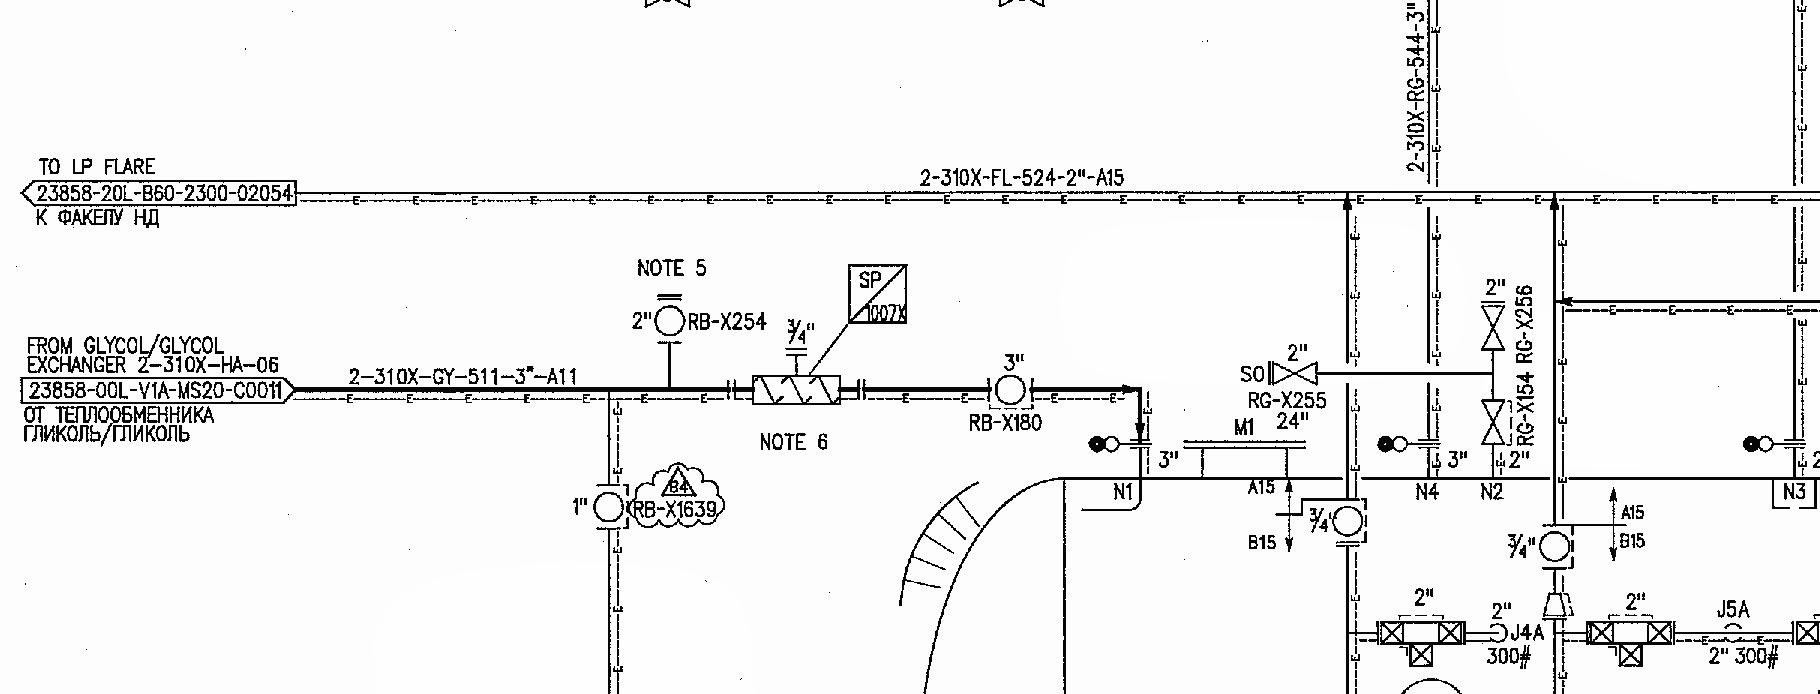2 WAY VALVE: (1372, 612, 1474, 671), (1580, 610, 1678, 668)
CONCENTRIC REDUCER: (1534, 588, 1574, 622)
CONNECTOR: (1479, 619, 1515, 649)
END FLANGED: (779, 339, 815, 369)
FIELD INSTRUMENT: (650, 297, 688, 344), (988, 369, 1034, 407), (590, 486, 630, 529), (1329, 496, 1359, 550), (1537, 526, 1572, 569)
GATE VALVE: (1265, 350, 1322, 392), (1475, 303, 1511, 356), (1476, 398, 1510, 444)
REVISION TRIANGLE: (663, 460, 696, 501)
SPECIAL PIPING ITEM: (842, 259, 917, 333)
SPECTACLE BLIND OPEN: (1732, 428, 1814, 460), (1084, 428, 1157, 460), (1365, 426, 1444, 454)
